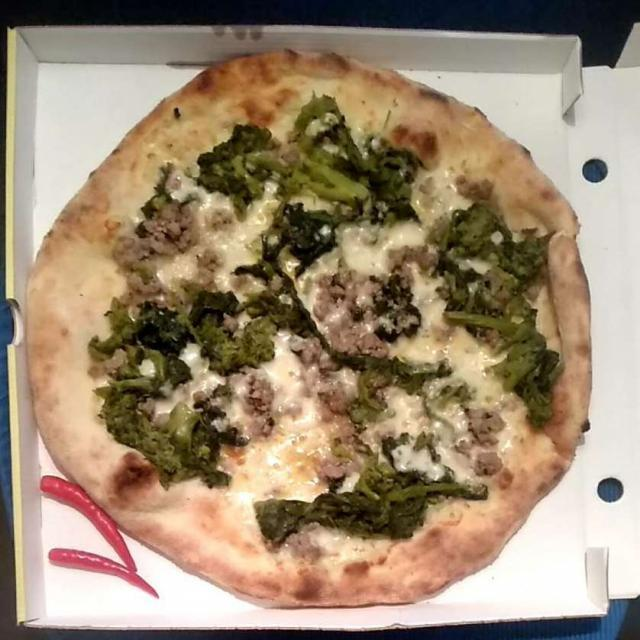beef: (98, 213, 385, 435)
cheese: (178, 178, 516, 549)
mixed-vegetables: (111, 101, 540, 555)
